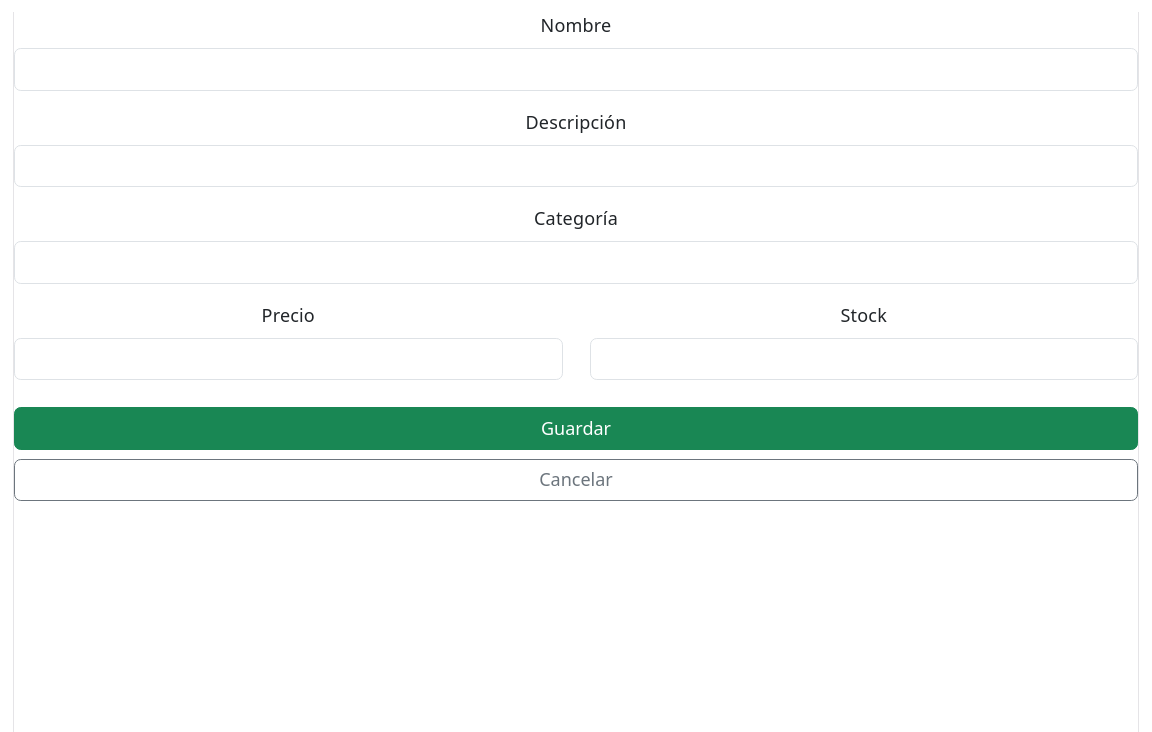
Test case: FormularioProducto › muestra errores y no guarda si los campos están vacíos
Click the button "Guardar". click: point(576, 428)
box: top-left (14, 407), bottom-right (1138, 450)
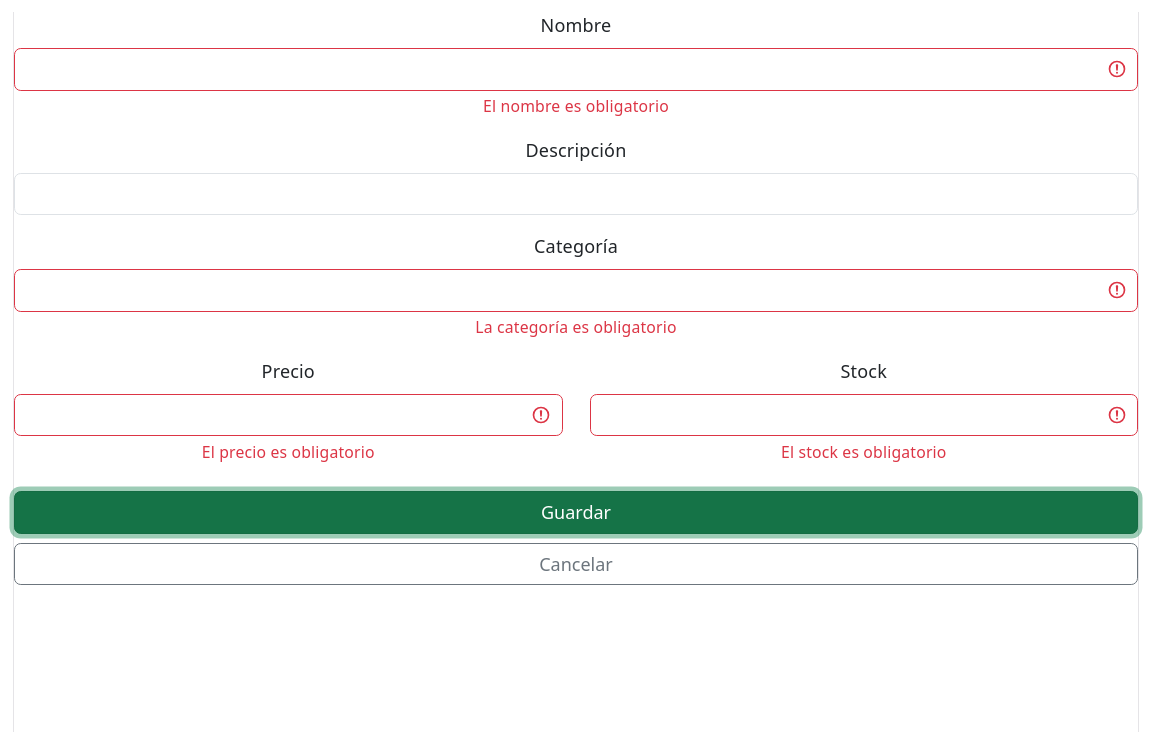
Now the text "El nombre es obligatorio" is shown, box top-left (483, 95), bottom-right (669, 117)
Now the text "El precio es obligatorio" is shown, box top-left (202, 441), bottom-right (375, 463)
